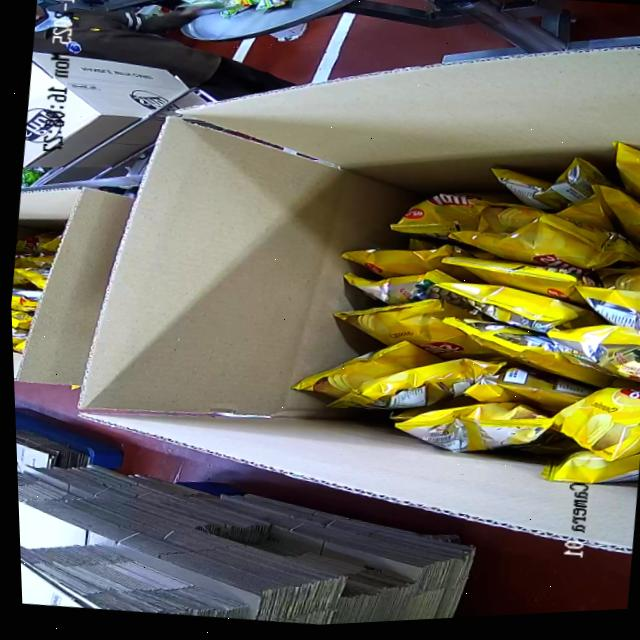SALTED: (305, 111, 640, 500), (7, 200, 51, 363)
